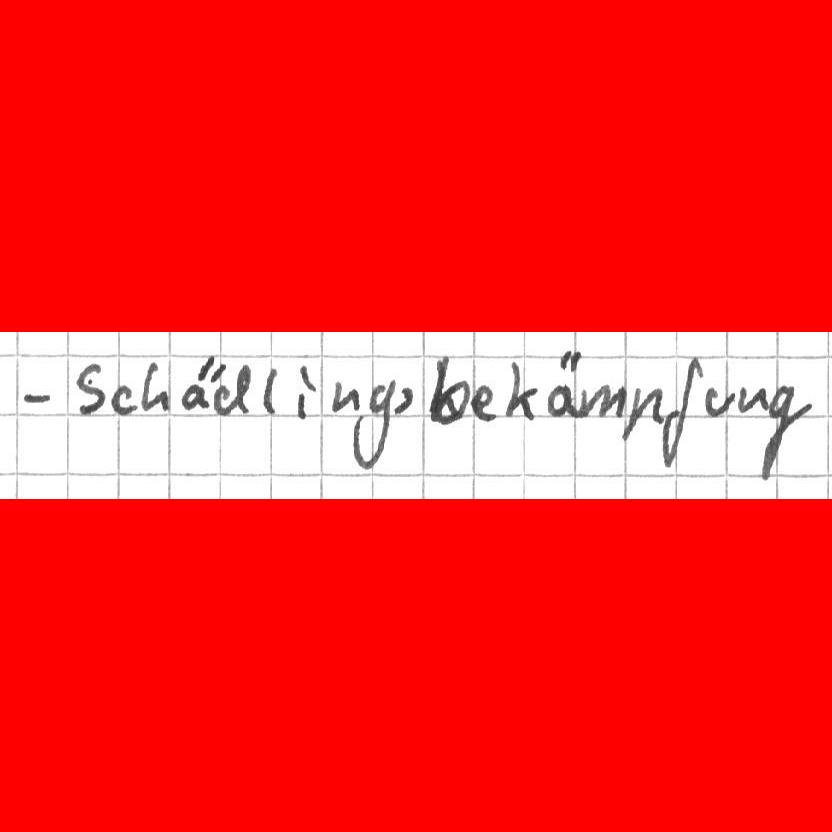Char: (759, 382, 813, 481), (661, 355, 702, 470), (352, 375, 396, 468), (428, 352, 471, 428), (614, 383, 665, 442), (180, 352, 224, 413), (546, 347, 581, 418), (71, 356, 109, 421), (502, 357, 537, 423), (215, 360, 253, 417), (577, 383, 626, 420), (137, 359, 172, 410), (291, 358, 318, 423), (259, 361, 283, 417), (328, 375, 361, 414), (470, 381, 499, 424), (703, 384, 735, 419), (737, 384, 769, 416), (110, 382, 137, 417), (392, 382, 417, 419), (20, 386, 58, 409)
